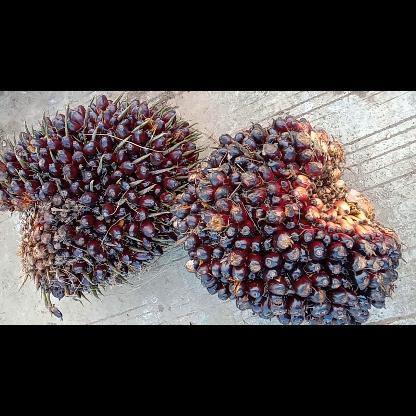TBS mentah: (176, 116, 400, 324), (0, 90, 200, 300)
